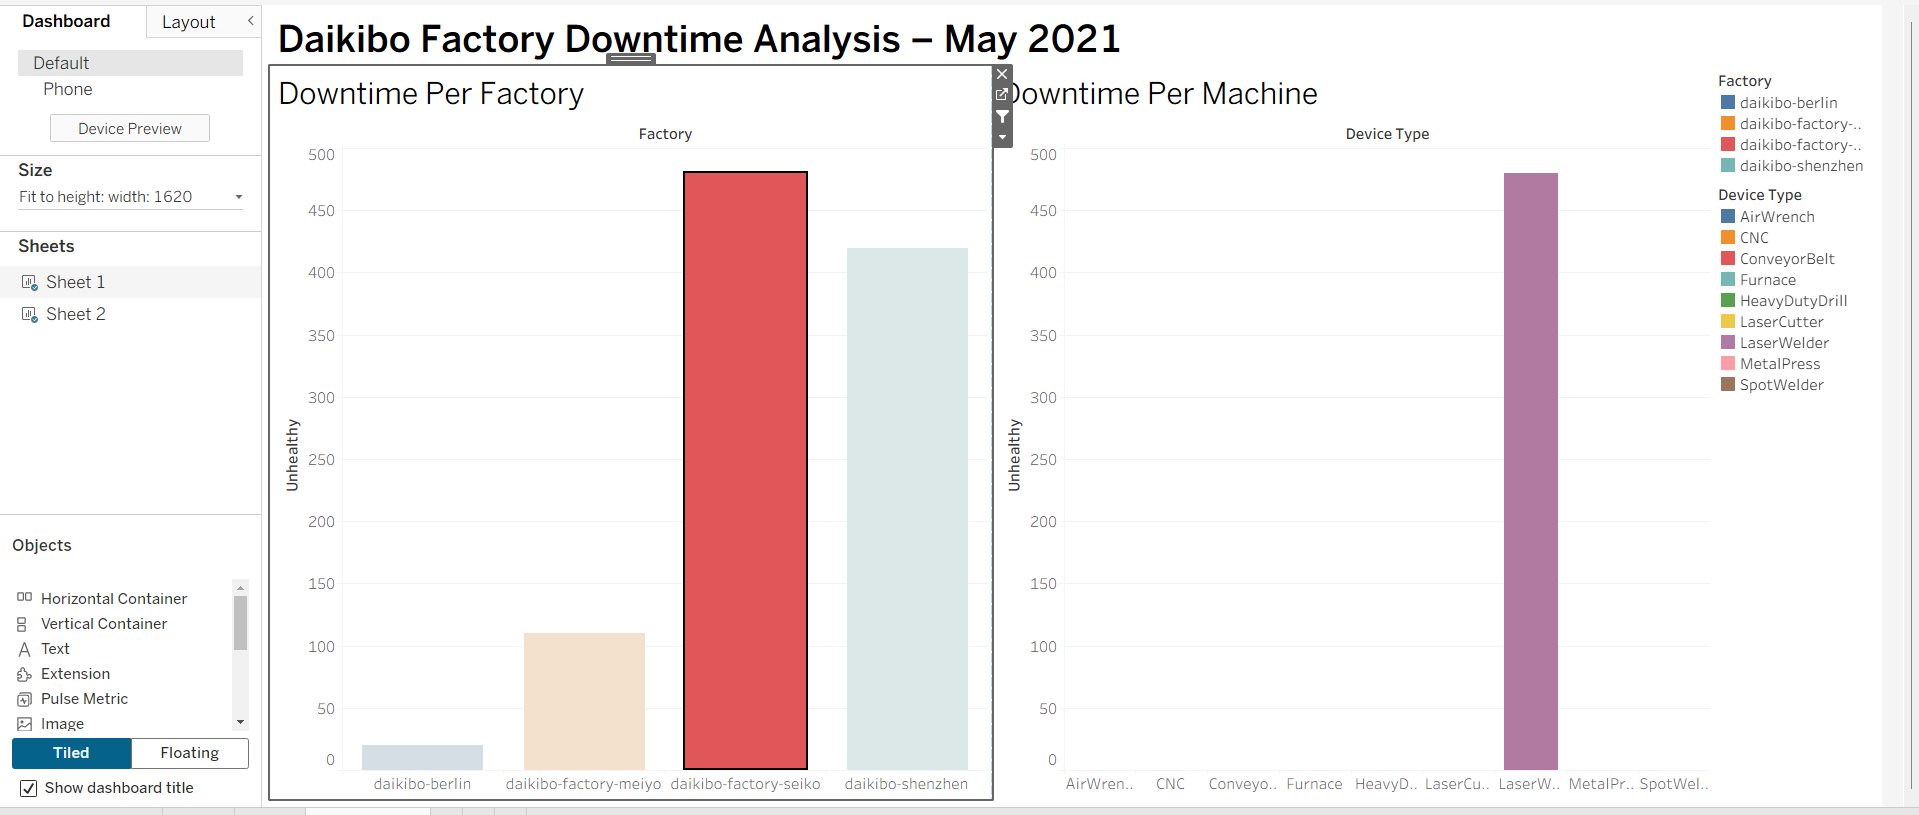

The dashboard page shown, as its layout file describes it:
{"tool":"tableau","page":{"name":"Dashboard 1","canvas":[1000,1000],"units":"permille","ordinal":0},"visuals":[{"type":"title","box":[4.9,10,990.1,66.1]},{"type":"worksheet","title":"Sheet 1","mark":"Automatic","rows":["Calculation_1002241828937728"],"cols":["factory"],"box":[4.9,76.1,445.7,914]},{"type":"worksheet","title":"Sheet 2","mark":"Automatic","rows":["Calculation_1002241828937728"],"cols":["deviceType"],"box":[450.6,76.1,445.7,914]},{"type":"legend","title":"Sheet 1","param":"[federated.0o6ija80zvpswg18rf2ki1506vfj].[none:factory:nk]","box":[896.3,76.1,98.8,142.2]},{"type":"legend","title":"Sheet 2","param":"[federated.0o6ija80zvpswg18rf2ki1506vfj].[none:deviceType:nk]","box":[896.3,218.2,98.8,273.1]}]}

Visuals, with their boxes on the dashboard's canvas, which has no fixed pixel size, in thousandths of its width and height (x1, y1, x2, y2). These are canvas units, not pixel positions in the 1919x815 screenshot, which may show the page scaled, cropped or inside an application window:
title: (5, 10, 995, 76)
"Sheet 1" worksheet: (5, 76, 451, 990)
"Sheet 2" worksheet: (451, 76, 896, 990)
"Sheet 1" legend: (896, 76, 995, 218)
"Sheet 2" legend: (896, 218, 995, 491)
